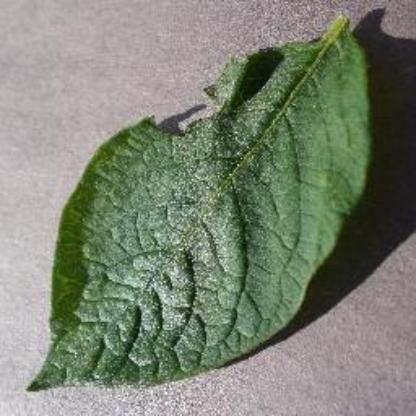Healthy-plant: (25, 6, 383, 402)
